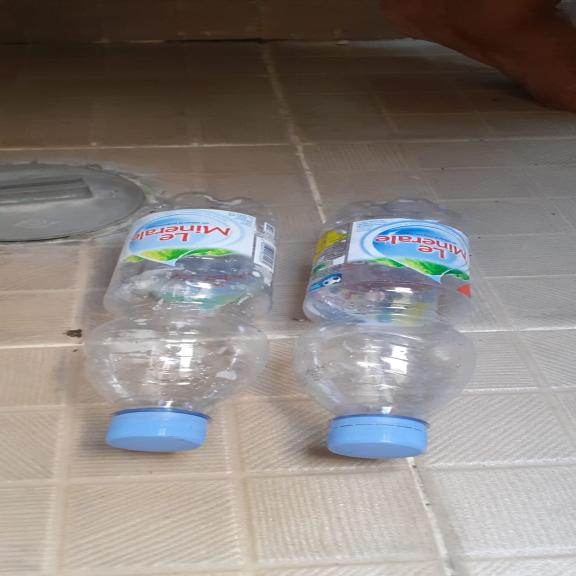Plastik: (87, 190, 277, 454), (300, 195, 477, 460)
